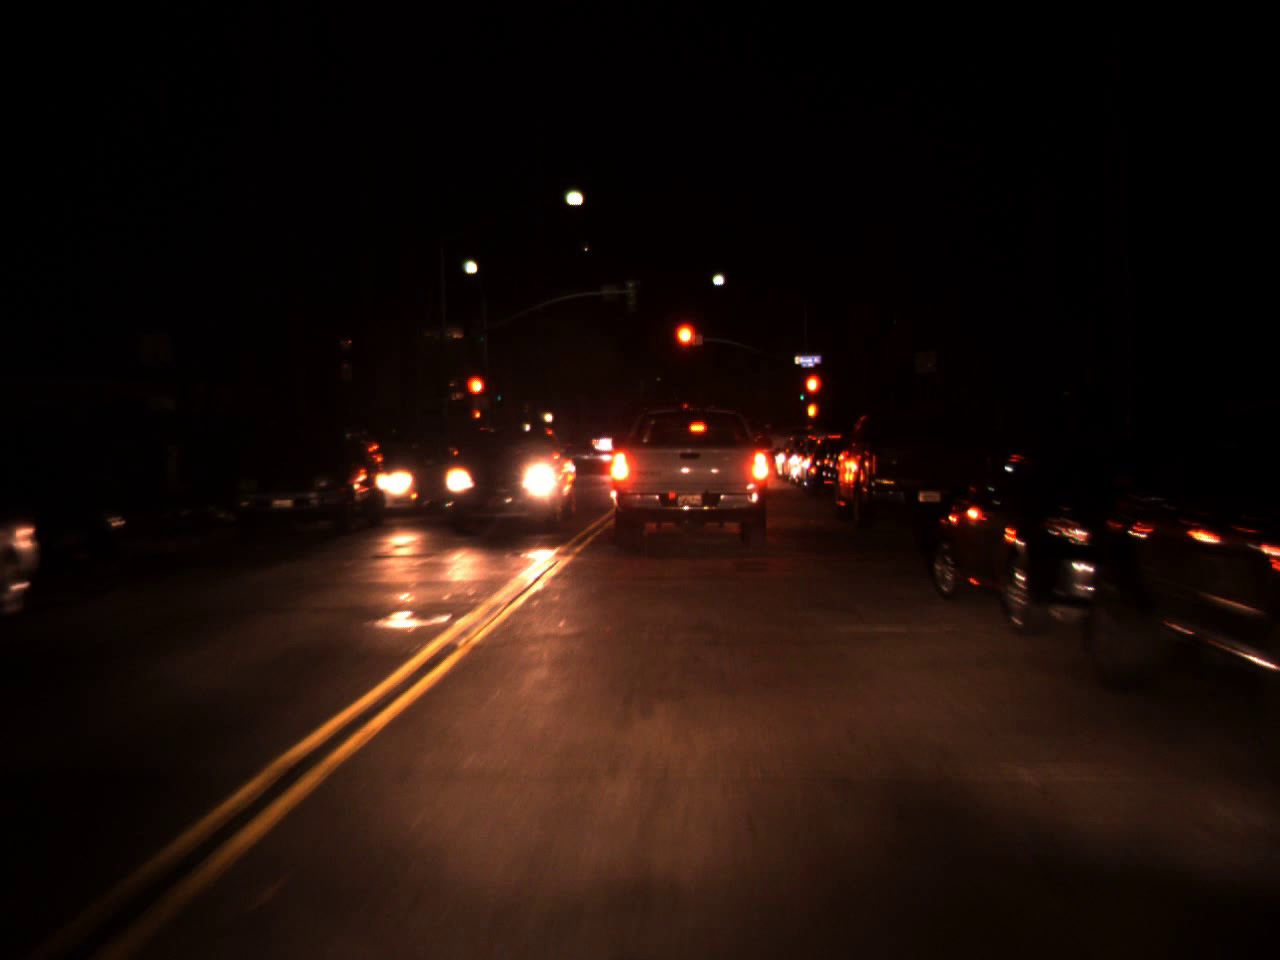stop: (672, 319, 699, 373), (464, 374, 488, 417), (802, 372, 823, 415)
